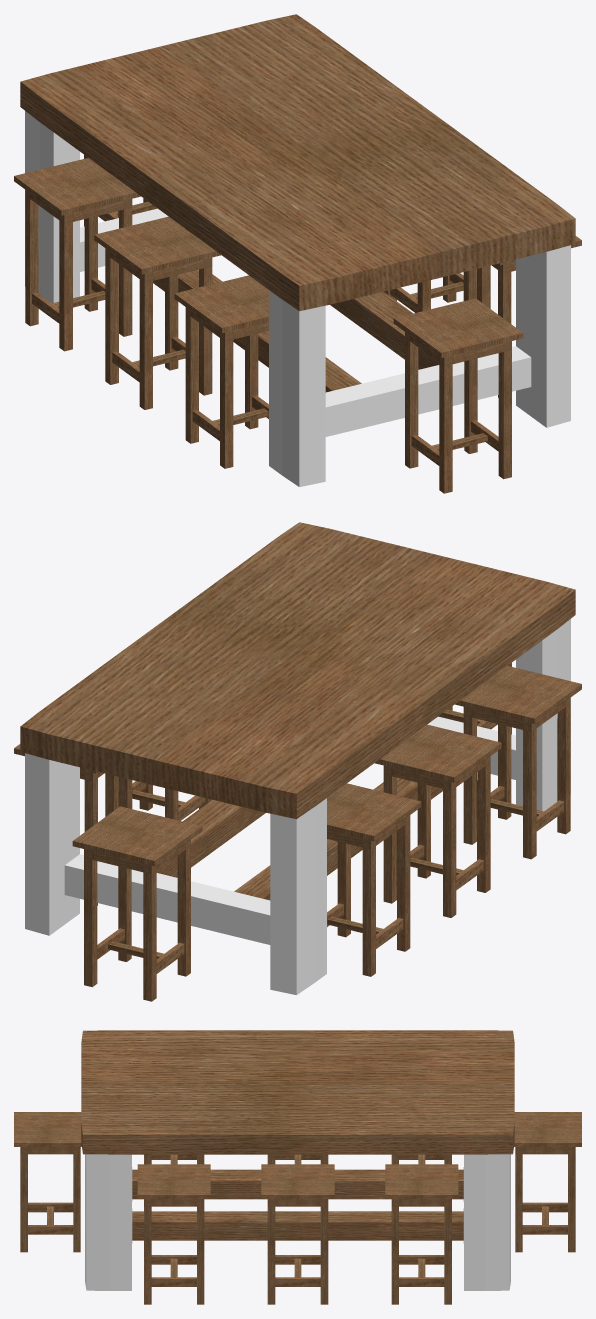
3 views of the same model, one above another, from view 1: azimuth 30°, elevation 25°; view 2: azimuth 150°, elevation 25°; view 3: azimuth 270°, elevation 25° (orthographic). The views are drawn at different scales.
Parts seen in each view (by area): view 1: stoolTable_SM, stool_SM.006, stool_SM.002, stool_SM.001, stool_SM, stool_SM.004, stool_SM.005; view 2: stoolTable_SM, stool_SM.007, stool_SM, stool_SM.001, stool_SM.002, stool_SM.004, stool_SM.003; view 3: stoolTable_SM, stool_SM.004, stool_SM.005, stool_SM.003, stool_SM.007, stool_SM.006, stool_SM.001, stool_SM.002, stool_SM.
Part boxes in pixels (bbox=[...]): stoolTable_SM: bbox=[20, 14, 575, 486]; stool_SM.006: bbox=[393, 298, 523, 493]; stool_SM.002: bbox=[14, 158, 140, 351]; stool_SM.001: bbox=[94, 216, 221, 409]; stool_SM: bbox=[174, 275, 268, 468]; stool_SM.004: bbox=[384, 265, 490, 312]; stool_SM.005: bbox=[463, 236, 581, 397]; stoolTable_SM: bbox=[20, 522, 575, 994]; stool_SM.007: bbox=[72, 806, 202, 1001]; stool_SM: bbox=[455, 666, 581, 859]; stool_SM.001: bbox=[374, 724, 501, 917]; stool_SM.002: bbox=[327, 783, 421, 976]; stool_SM.004: bbox=[105, 773, 211, 820]; stool_SM.003: bbox=[14, 744, 132, 905]; stoolTable_SM: bbox=[81, 1030, 514, 1290]; stool_SM.004: bbox=[261, 1164, 334, 1304]; stool_SM.005: bbox=[137, 1164, 210, 1304]; stool_SM.003: bbox=[385, 1164, 458, 1304]; stool_SM.007: bbox=[514, 1112, 581, 1252]; stool_SM.006: bbox=[14, 1112, 81, 1252]; stool_SM.001: bbox=[267, 1154, 328, 1164]; stool_SM.002: bbox=[391, 1154, 451, 1164]; stool_SM: bbox=[144, 1154, 204, 1164].
Bounding box in the file's own units: 259 × 140 × 459.
Materials: 7 (6 with a texture image).
